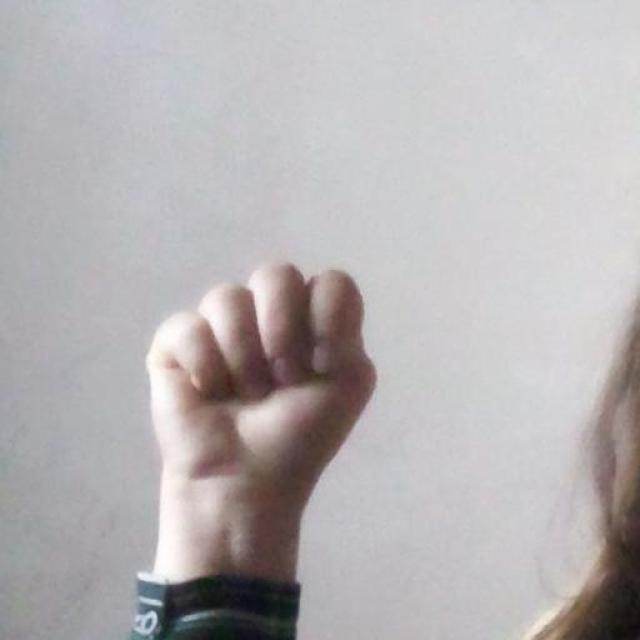hand: (144, 258, 378, 582)
